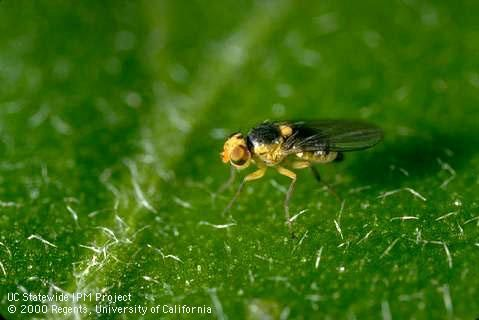Trifoli: (215, 101, 392, 218)
